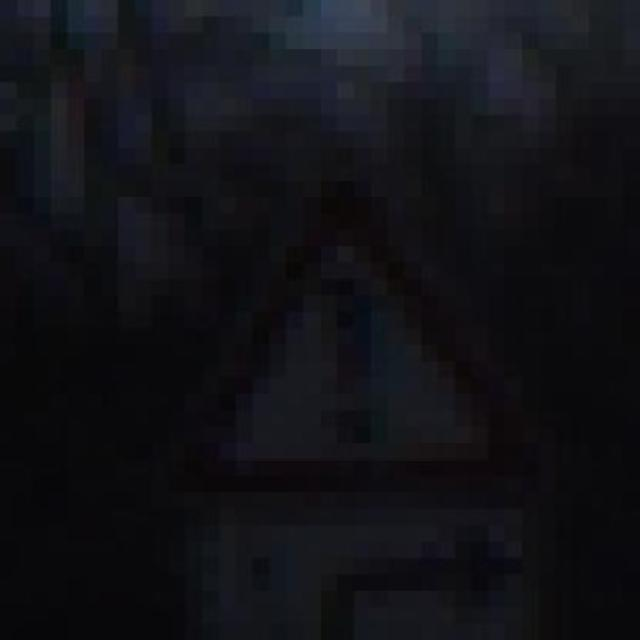Attention Please-: (116, 167, 572, 511)
